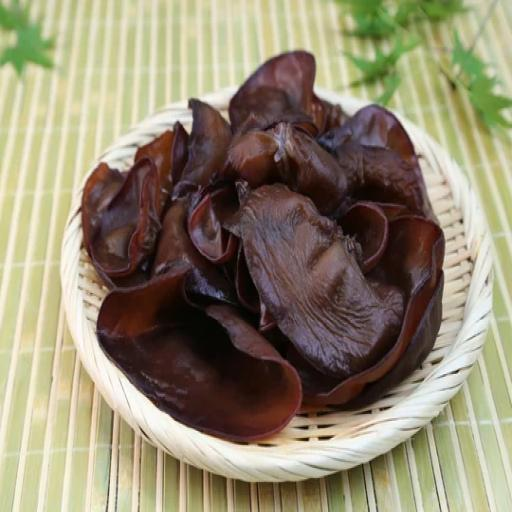mushroom: (84, 43, 448, 442)
